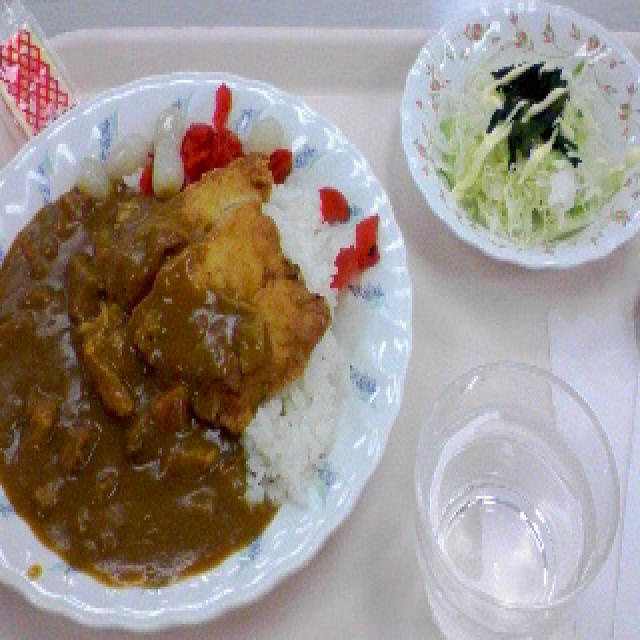Beef Curry: (3, 172, 274, 586)
